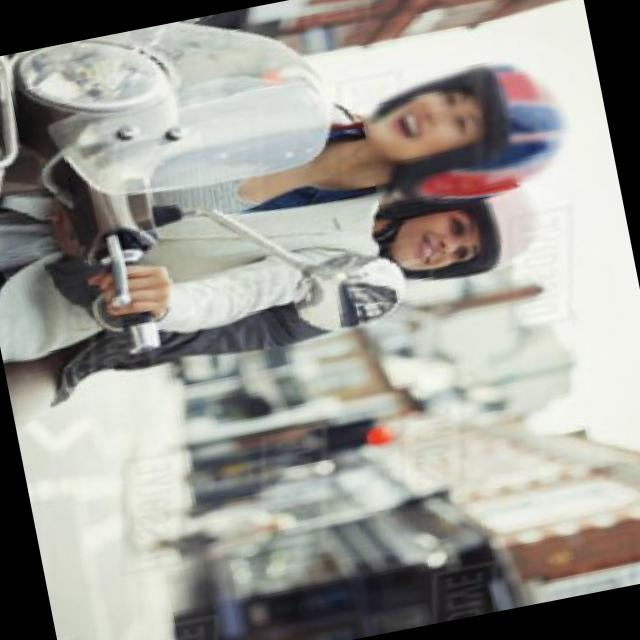With Helmet: (354, 48, 580, 218), (382, 180, 542, 286)
